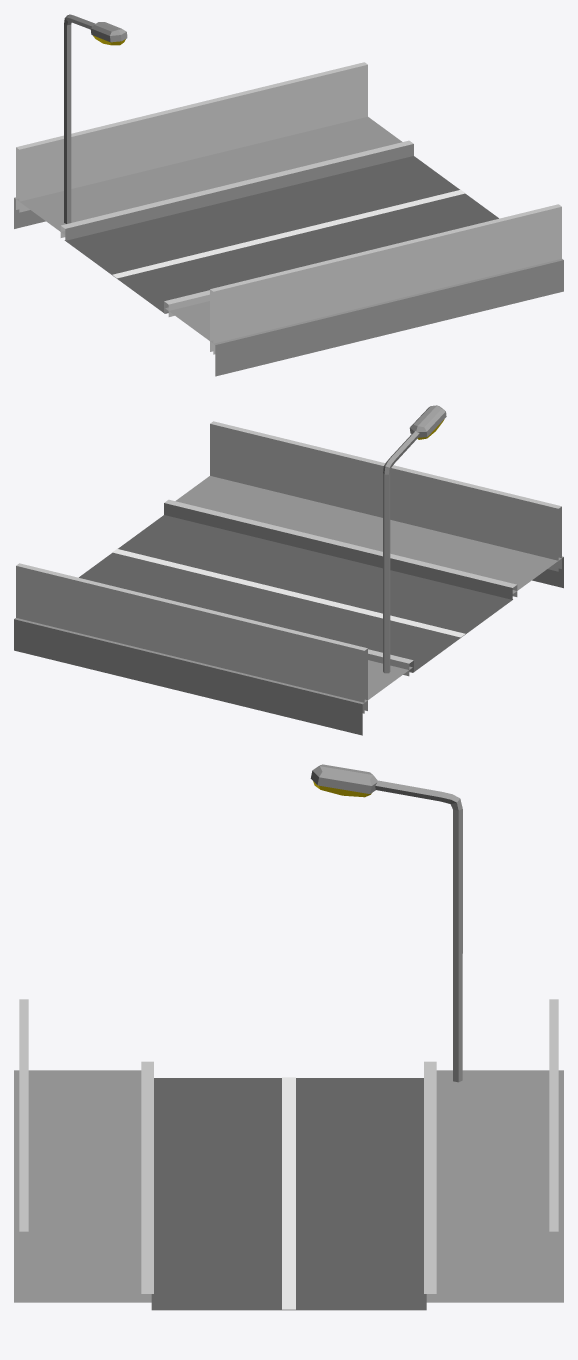
File: Bridge_Tile_4.fbx
3 views of the same model, one above another, from view 1: azimuth 30°, elevation 25°; view 2: azimuth 150°, elevation 25°; view 3: azimuth 270°, elevation 25° (orthographic). The views are drawn at different scales.
Parts seen in each view (by area): view 1: Bridge_Road_4, Bridge_Wall_4_1, Bridge_Wall_4_2, Bridge_Light_4; view 2: Bridge_Road_4, Bridge_Wall_4_2, Bridge_Wall_4_1, Bridge_Light_4; view 3: Bridge_Road_4, Bridge_Light_4, Bridge_Wall_4_1, Bridge_Wall_4_2.
Boxes of the visible parts, x1,y1,x2,y2 form: Bridge_Road_4: (14,116,563,376); Bridge_Wall_4_1: (210,204,561,354); Bridge_Wall_4_2: (16,62,367,212); Bridge_Light_4: (64,14,127,223); Bridge_Road_4: (14,476,563,735); Bridge_Wall_4_2: (16,563,367,713); Bridge_Wall_4_1: (210,421,561,571); Bridge_Light_4: (383,405,446,673); Bridge_Road_4: (14,1061,563,1310); Bridge_Light_4: (310,764,462,1082); Bridge_Wall_4_1: (19,999,28,1231); Bridge_Wall_4_2: (549,999,558,1231).
Size of the model in its own units: 4 by 2.86 by 4.
